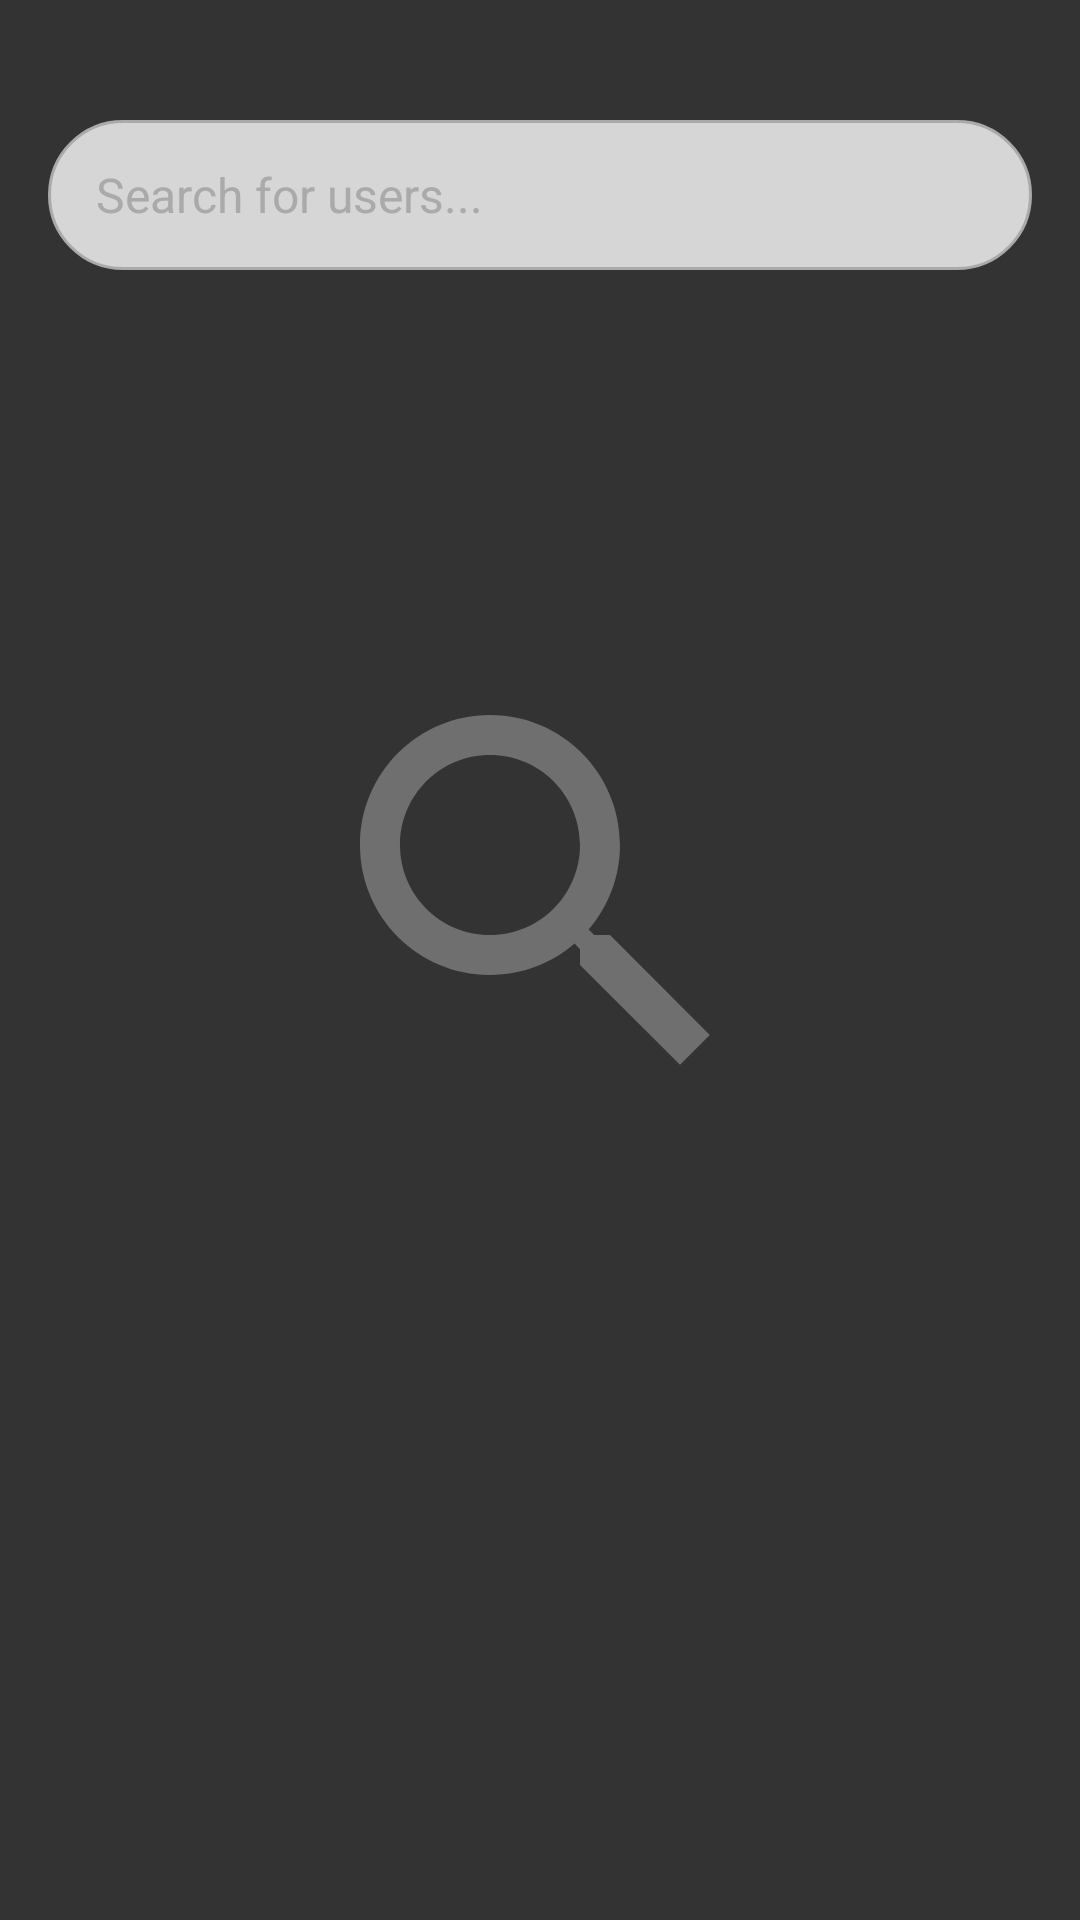

Icon bounding boxes for this 1080×1920 phone screenshot, format [x1, y1, x2, y2]:
search: [360, 715, 709, 1064]
